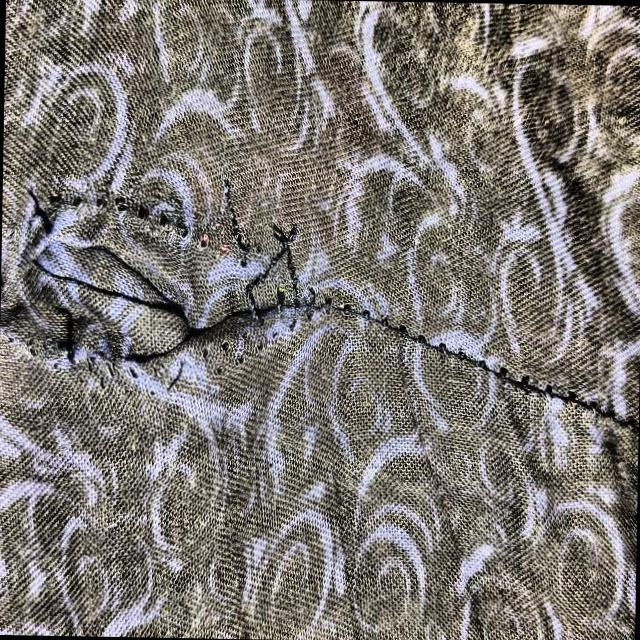gray stitch: (4, 176, 342, 426)
